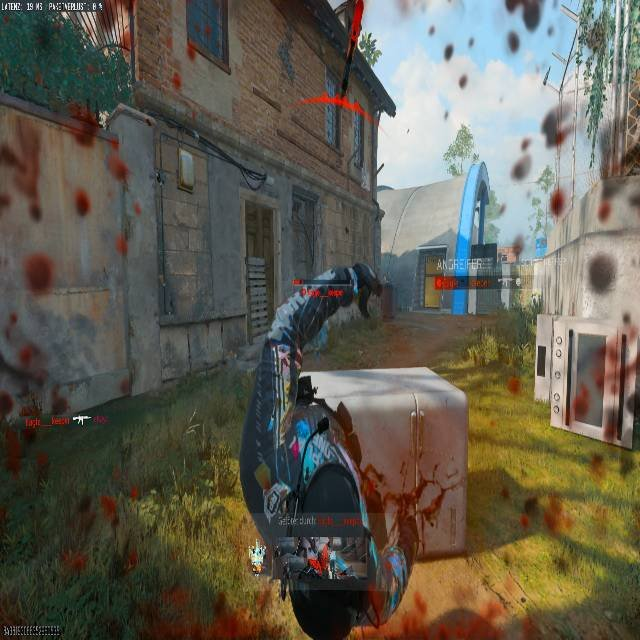head: (20, 251, 55, 298)
player: (0, 252, 102, 474)
